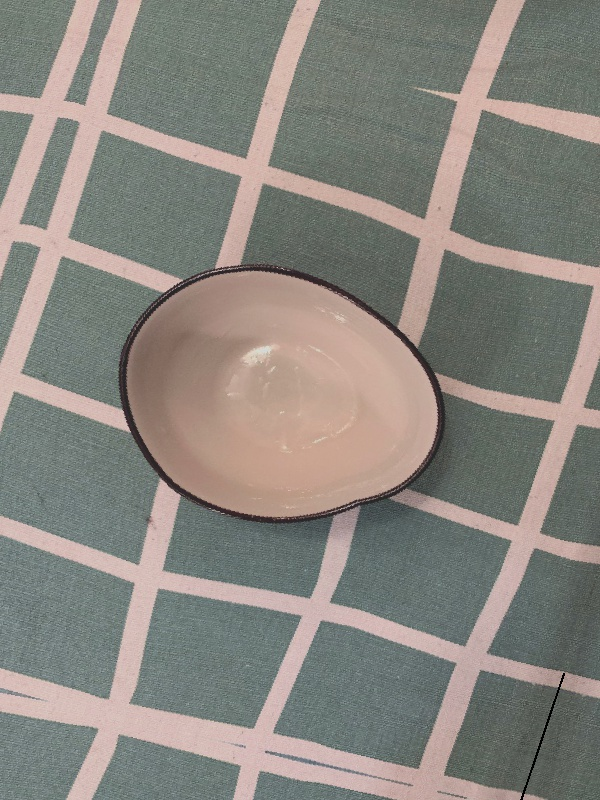bowl_small: (80, 218, 489, 560)
